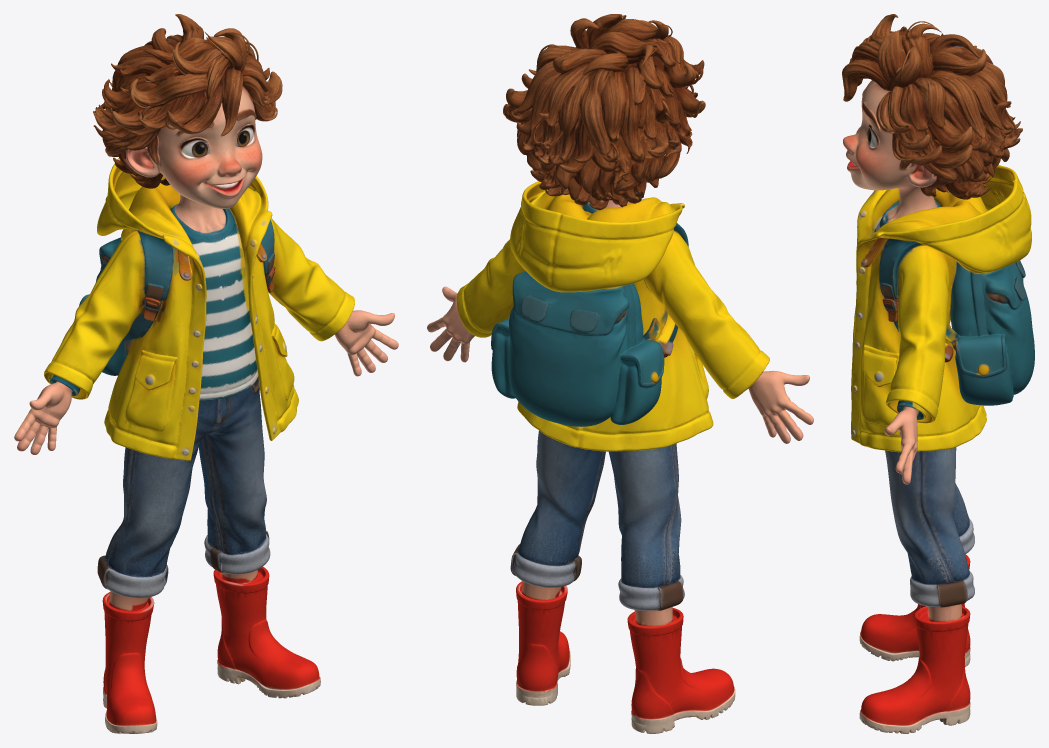
File: leo.glb
The picture shows the model from 3 angles, left to right: view 1: azimuth 30°, elevation 25°; view 2: azimuth 150°, elevation 25°; view 3: azimuth 270°, elevation 25°; orthographic projection. The views are drawn at different scales.
Visible parts, largest first — view 1: child; view 2: child; view 3: child.
Boxes of the visible parts, box(x1,y1,x2,y2) form: child: box(14, 14, 398, 733); child: box(427, 14, 813, 733); child: box(842, 14, 1034, 733).
Bounding box in the file's own units: 0.773 × 1.3 × 0.3438.
Materials: 1 (1 with a texture image).
